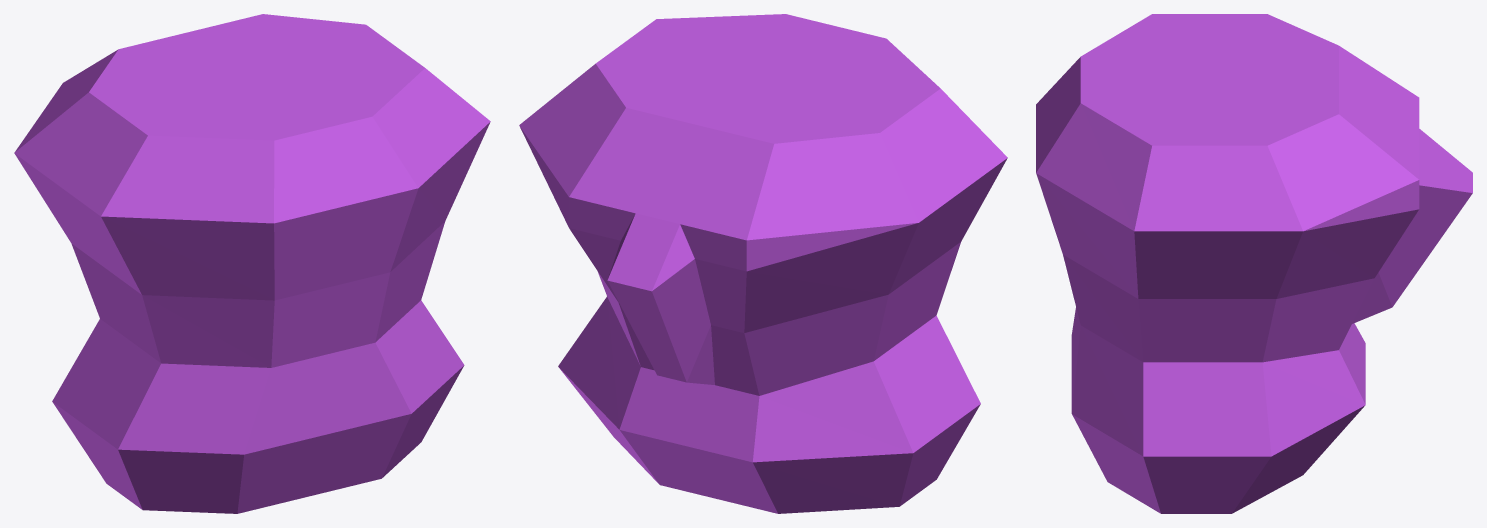
File: bode.FBX
The picture shows the model from 3 angles, left to right: view 1: azimuth 30°, elevation 25°; view 2: azimuth 150°, elevation 25°; view 3: azimuth 270°, elevation 25°; orthographic projection. The views are drawn at different scales.
Parts seen in each view (by area): view 1: VIFS001; view 2: VIFS001; view 3: VIFS001.
Part boxes in pixels (x1,y1,x2,y2): VIFS001: (14, 14, 490, 513); VIFS001: (519, 14, 1007, 513); VIFS001: (1036, 14, 1472, 513).
Size of the model in its own units: 1.08 by 1 by 1.08.
